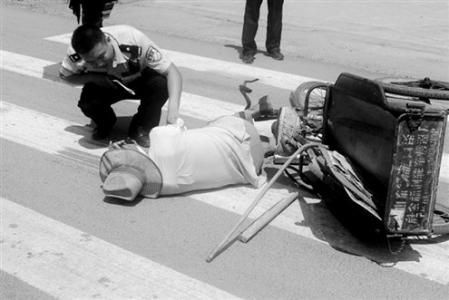falling: (103, 95, 296, 208)
